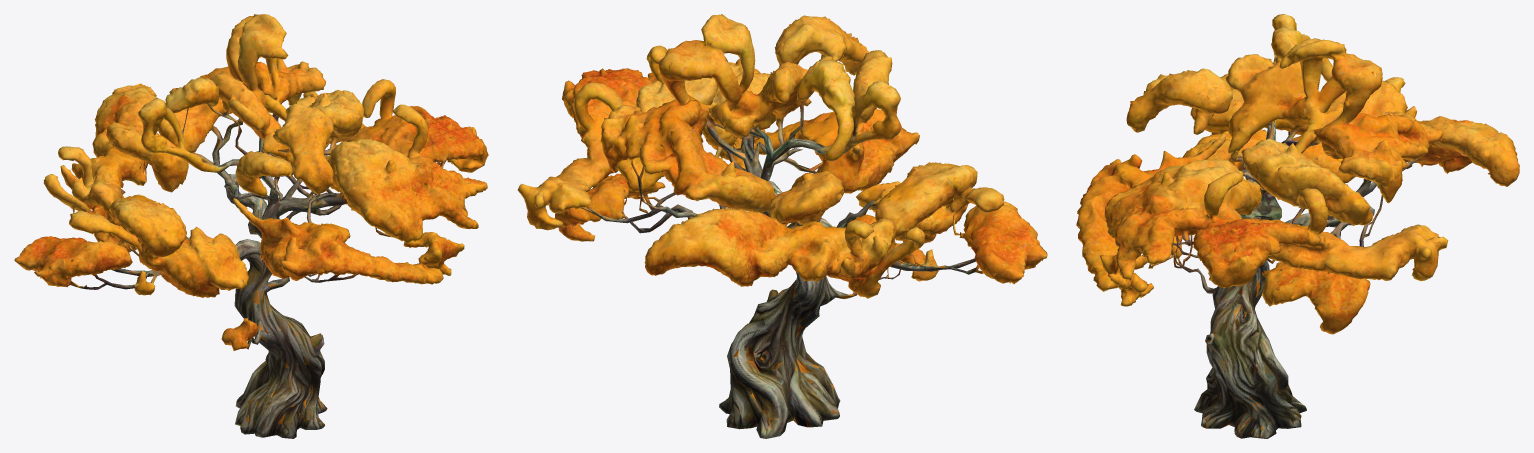
Rendered from Ember_Tree.glb.
The picture shows the model from 3 angles, left to right: view 1: azimuth 30°, elevation 25°; view 2: azimuth 150°, elevation 25°; view 3: azimuth 270°, elevation 25°; orthographic projection. The views are drawn at different scales.
Parts seen in each view (by area): view 1: Ember_Tree; view 2: Ember_Tree; view 3: Ember_Tree.
Boxes of the visible parts, x1,y1,x2,y2 form: Ember_Tree: [14, 14, 488, 438]; Ember_Tree: [517, 14, 1047, 438]; Ember_Tree: [1076, 14, 1519, 438].
Bounding box in the file's own units: 1.89 × 1.54 × 1.6.
1 material, 1 textured.
